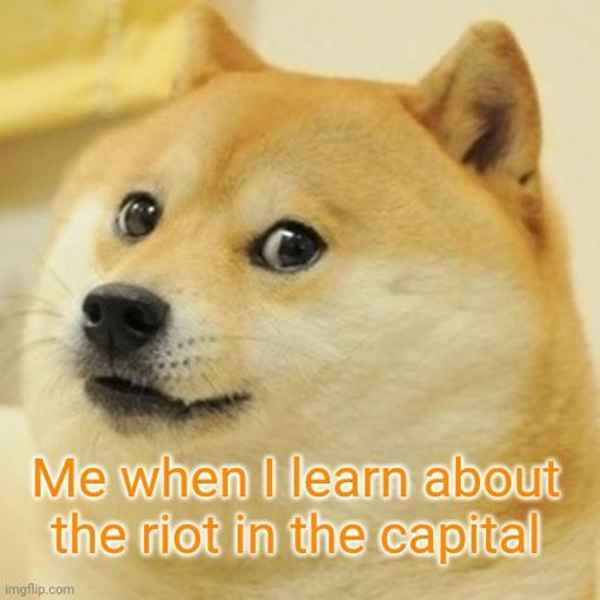doge: (29, 33, 548, 455)
